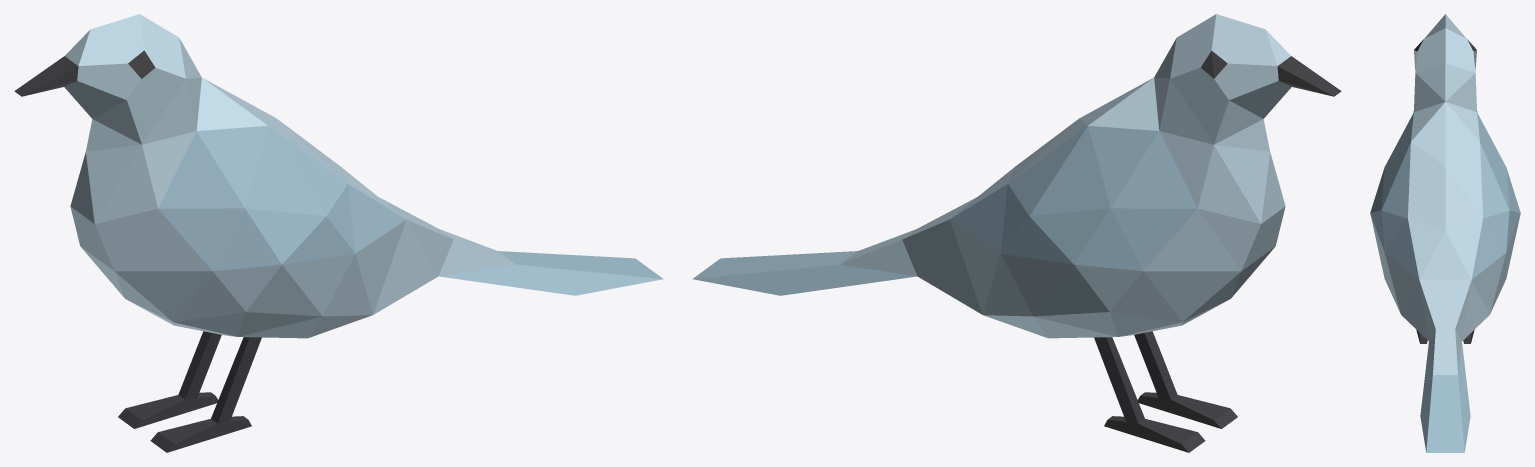
File: birdWithLegs.glb
3 views of the same model, side by side, from view 1: azimuth 30°, elevation 25°; view 2: azimuth 150°, elevation 25°; view 3: azimuth 270°, elevation 25° (orthographic). The views are drawn at different scales.
Parts seen in each view (by area): view 1: birdWithLegs; view 2: birdWithLegs; view 3: birdWithLegs.
Boxes of the visible parts, x1=… form: birdWithLegs: x1=14, y1=14, x2=663, y2=452; birdWithLegs: x1=692, y1=14, x2=1341, y2=452; birdWithLegs: x1=1370, y1=14, x2=1520, y2=452.
Size of the model in its own units: 0.9028 by 0.5759 by 0.2755.
Materials: 2 (2 with a texture image).
